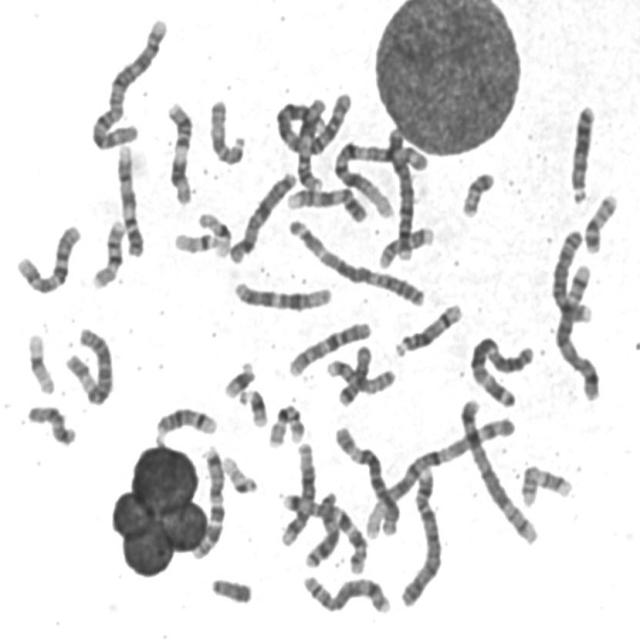A1: (358, 412, 518, 540), (331, 135, 432, 219)
A2: (86, 12, 170, 151), (272, 90, 355, 156)
A3: (283, 213, 428, 309), (464, 330, 536, 409)
B4: (397, 462, 442, 609), (386, 126, 416, 264)
B5: (454, 393, 540, 547), (550, 257, 603, 402)
C10: (283, 315, 374, 379), (11, 218, 83, 296)
C11: (161, 96, 196, 207), (291, 93, 328, 193)
C12: (276, 436, 318, 548), (228, 276, 334, 312)
C6: (330, 419, 403, 537), (60, 322, 116, 408)
C7: (276, 487, 369, 576), (188, 441, 228, 562)
C8: (546, 224, 594, 326), (297, 569, 394, 617)
C9: (112, 138, 146, 258), (282, 182, 370, 224)
D13: (298, 484, 344, 570), (566, 99, 598, 205)
D14: (390, 298, 464, 359), (151, 402, 219, 440)
D15: (322, 352, 398, 396), (205, 93, 248, 167)
E16: (88, 214, 128, 291), (264, 400, 306, 450)
E17: (374, 220, 437, 270), (516, 459, 574, 508)
E18: (22, 398, 78, 448), (332, 340, 373, 407)
F19: (23, 326, 57, 396), (194, 206, 233, 258)
F20: (580, 189, 620, 255), (457, 166, 498, 219)
G21: (219, 355, 258, 400), (236, 384, 270, 430)
G22: (219, 450, 260, 496), (169, 226, 223, 256)
X: (224, 166, 300, 266)
Y: (206, 573, 254, 606)
